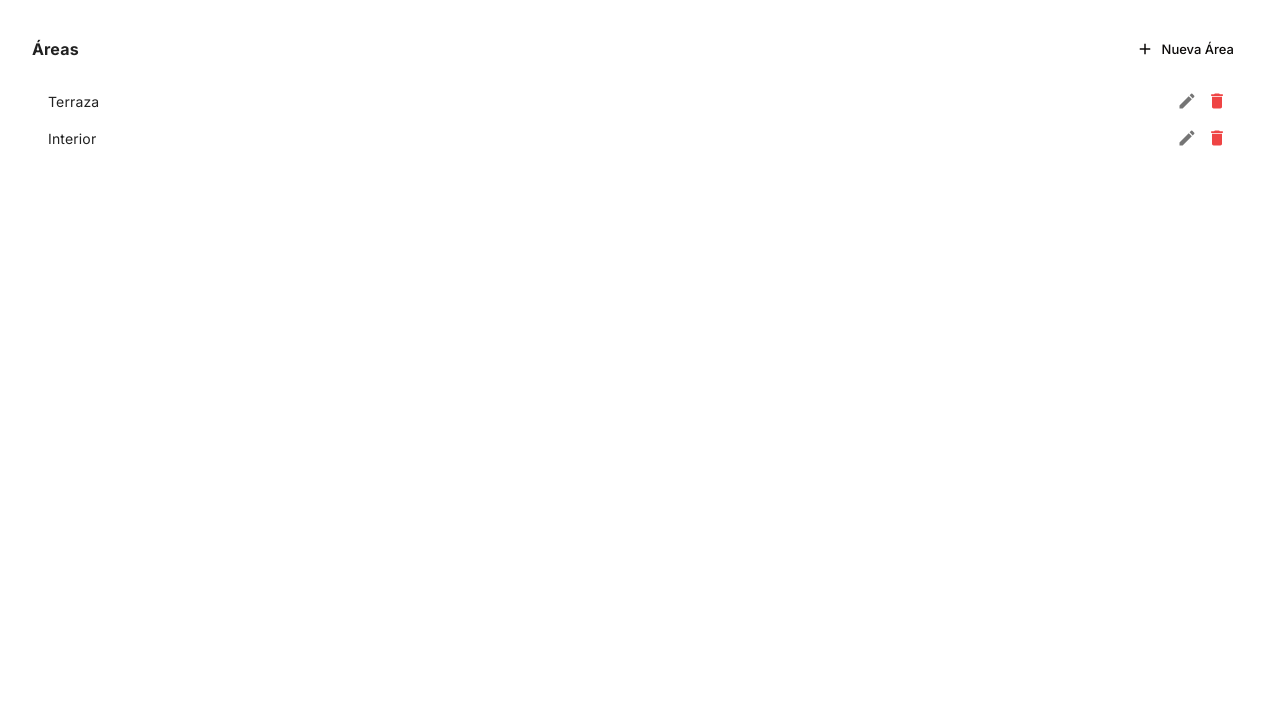
Scenario: AreaList › creates an area
This screenshot has width=1280, height=720.
Expected: the text "Terraza" is shown, [48,93,99,110]
Click the button "Nueva Área": x=1186, y=49 [1124,32,1248,67]
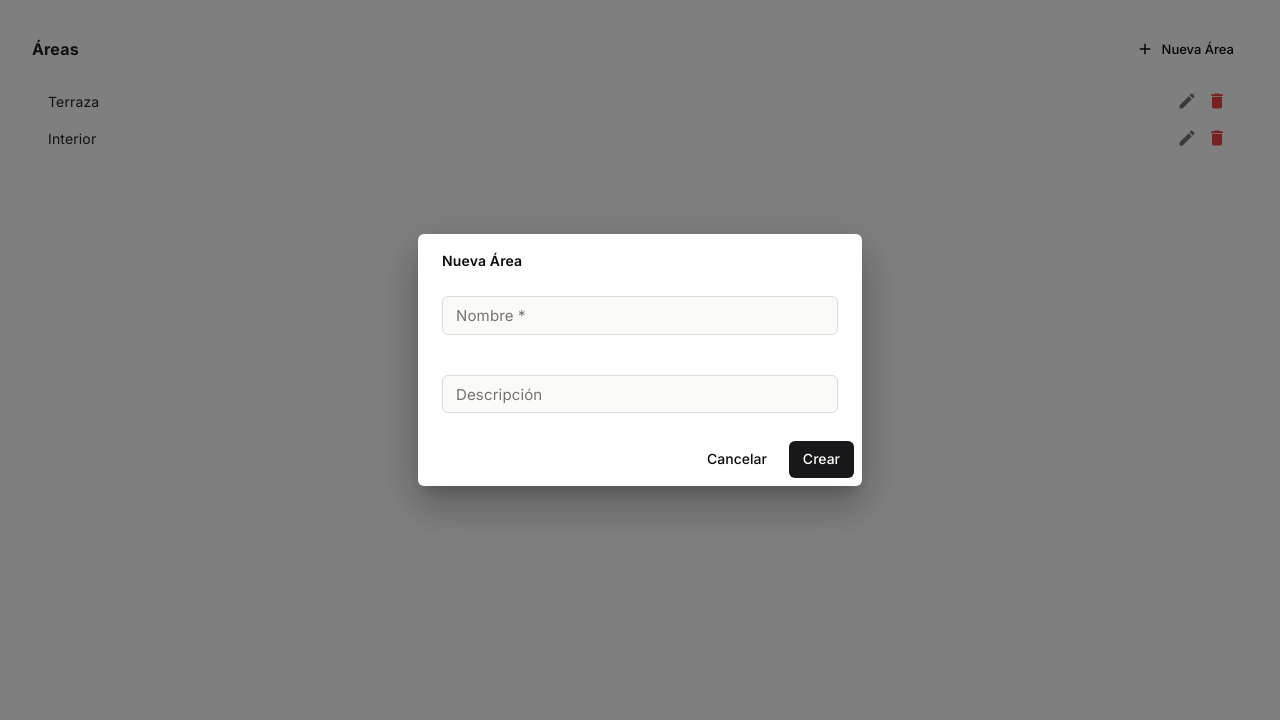
In the field named "nombre área": x=640, y=316 [442,296,838,335], type "Patio"
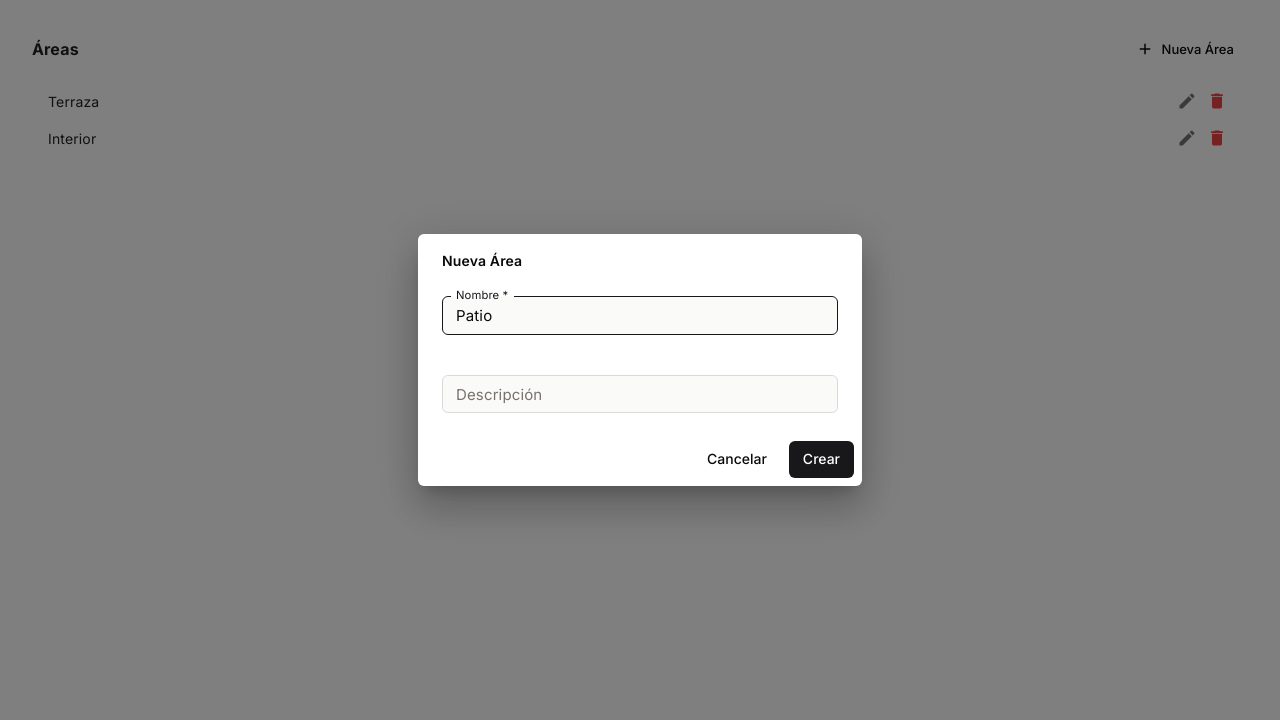
Click the button "Crear": x=821, y=460 [789,442,854,478]
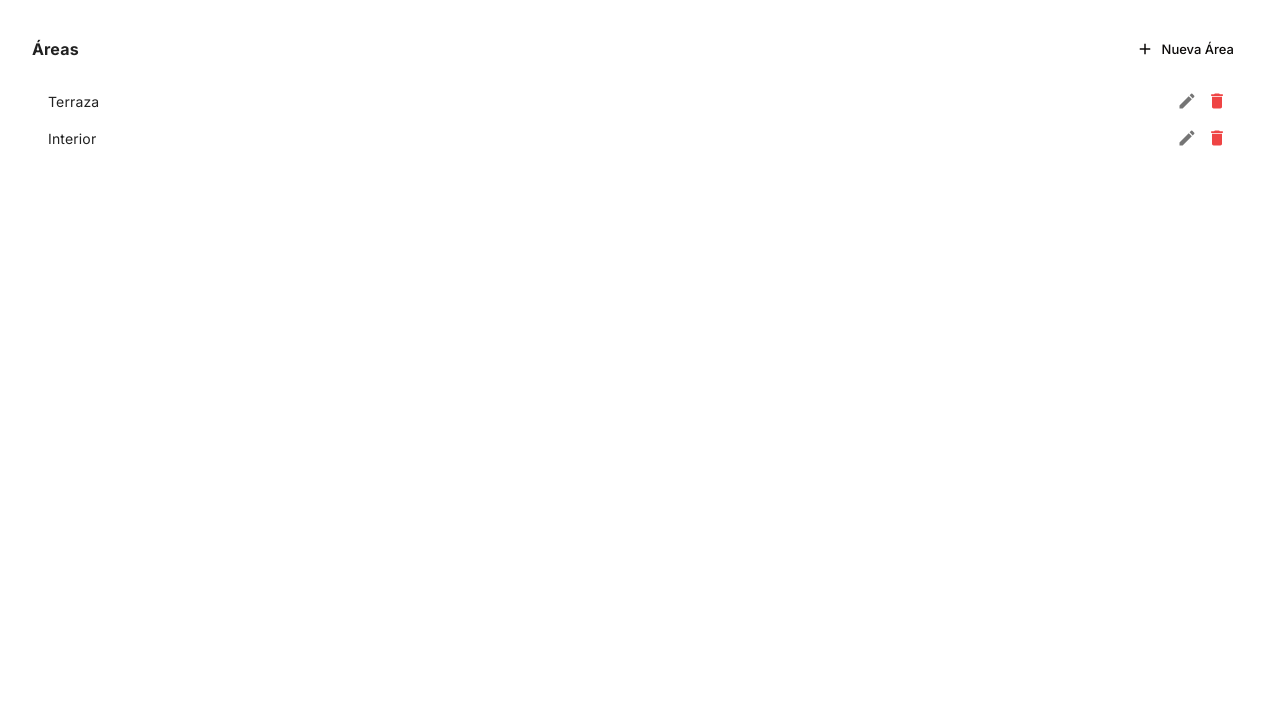
Now the dialog is gone
